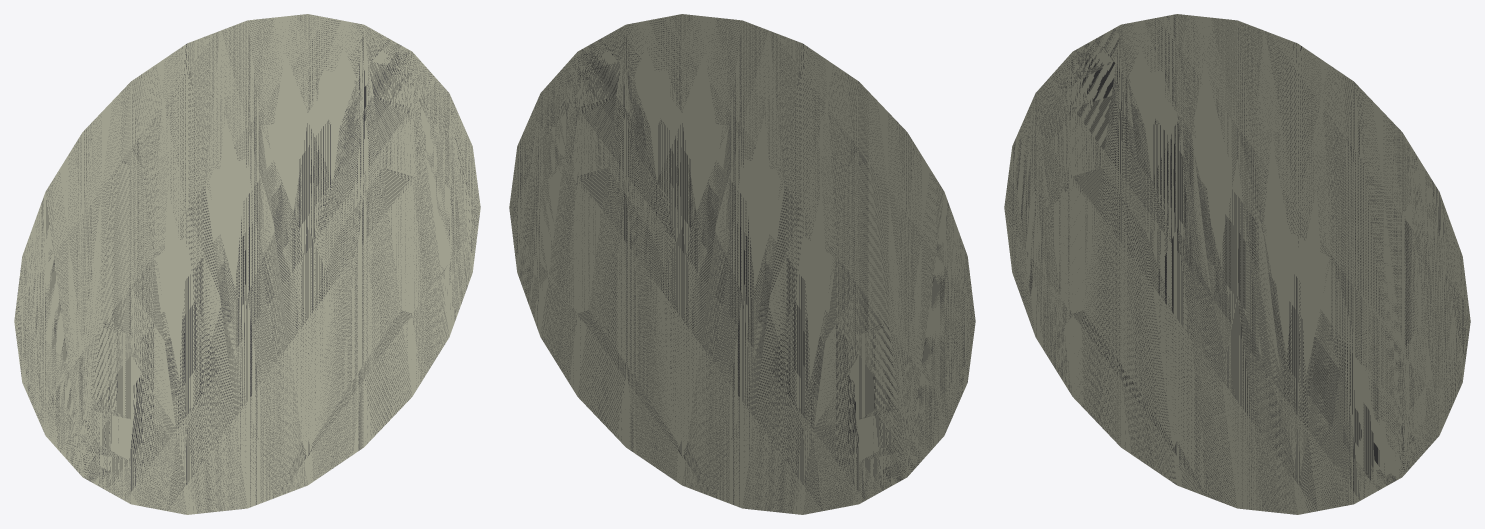
Rendered from original-64.obj.
3 views of the same model, side by side, from view 1: azimuth 30°, elevation 25°; view 2: azimuth 150°, elevation 25°; view 3: azimuth 330°, elevation 25° (orthographic).
Parts seen in each view (by area): view 1: mesh20/mesh20-geometry/material_5/component_6#mesh20-geometry; view 2: mesh20/mesh20-geometry/material_5/component_6#mesh20-geometry; view 3: mesh20/mesh20-geometry/material_5/component_6#mesh20-geometry.
Boxes of the visible parts, x1,y1,x2,y2 form: mesh20/mesh20-geometry/material_5/component_6#mesh20-geometry: (14, 14, 480, 514); mesh20/mesh20-geometry/material_5/component_6#mesh20-geometry: (509, 14, 975, 514); mesh20/mesh20-geometry/material_5/component_6#mesh20-geometry: (1004, 14, 1470, 514).
Size of the model in its own units: 0.0202 by 0.0202 by 0.
